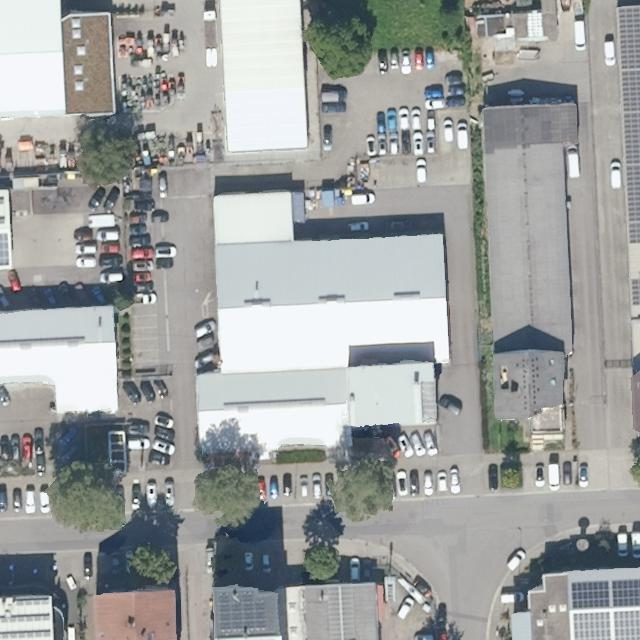PV: (616, 5, 639, 249), (570, 577, 639, 639), (219, 591, 267, 637), (0, 610, 51, 625), (0, 628, 52, 639), (12, 596, 51, 609), (628, 276, 639, 309)
